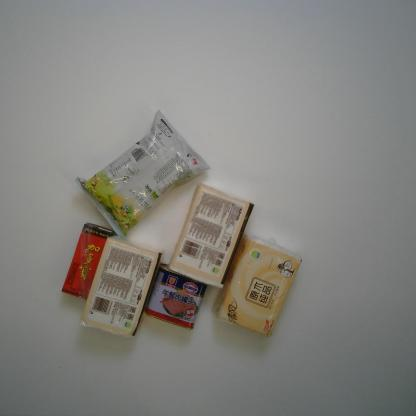Canned Food: (145, 261, 208, 330)
Drink: (60, 222, 116, 301)
Puffed Food: (73, 108, 213, 242)
Tissue: (211, 232, 304, 338), (167, 183, 255, 289), (79, 235, 164, 338)
